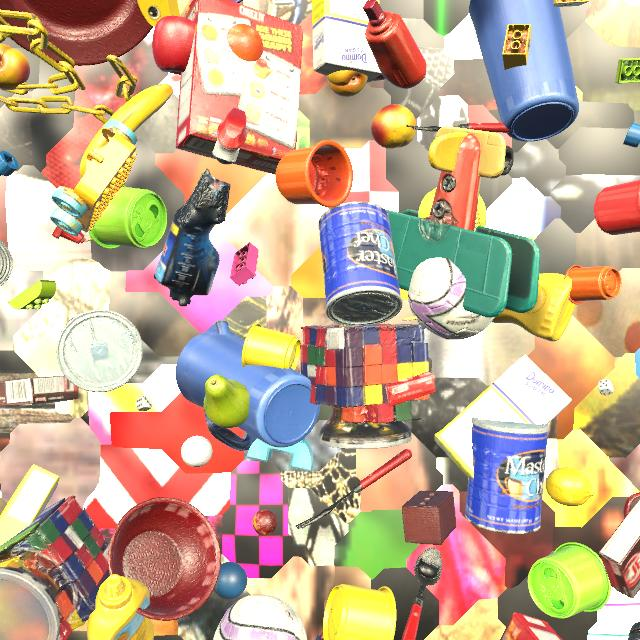ycb_002_master_chef_can: (318, 201, 403, 326), (465, 417, 549, 534), (56, 309, 143, 392)
ycb_003_cracker_box: (175, 0, 303, 175), (500, 612, 562, 640)
ycb_004_sugar_box: (434, 354, 572, 478), (312, 0, 382, 83), (0, 464, 60, 546)
ycb_006_mustard_bottle: (492, 273, 576, 341), (87, 574, 154, 640)
ycb_007_tuna_fish_can: (0, 240, 13, 286)
ycb_008_pudding_box: (599, 498, 640, 598), (0, 376, 80, 407)
ycb_009_gelatin_box: (386, 371, 436, 406)
ycb_011_banana: (80, 84, 173, 178)
ycb_013_apple: (152, 16, 195, 75)
ycb_014_lemon: (545, 468, 594, 506)
ycb_015_peach: (371, 104, 416, 149), (0, 44, 30, 90), (326, 70, 368, 97)
ycb_016_pear: (203, 375, 250, 428)
ycb_017_orange: (227, 24, 263, 62)
